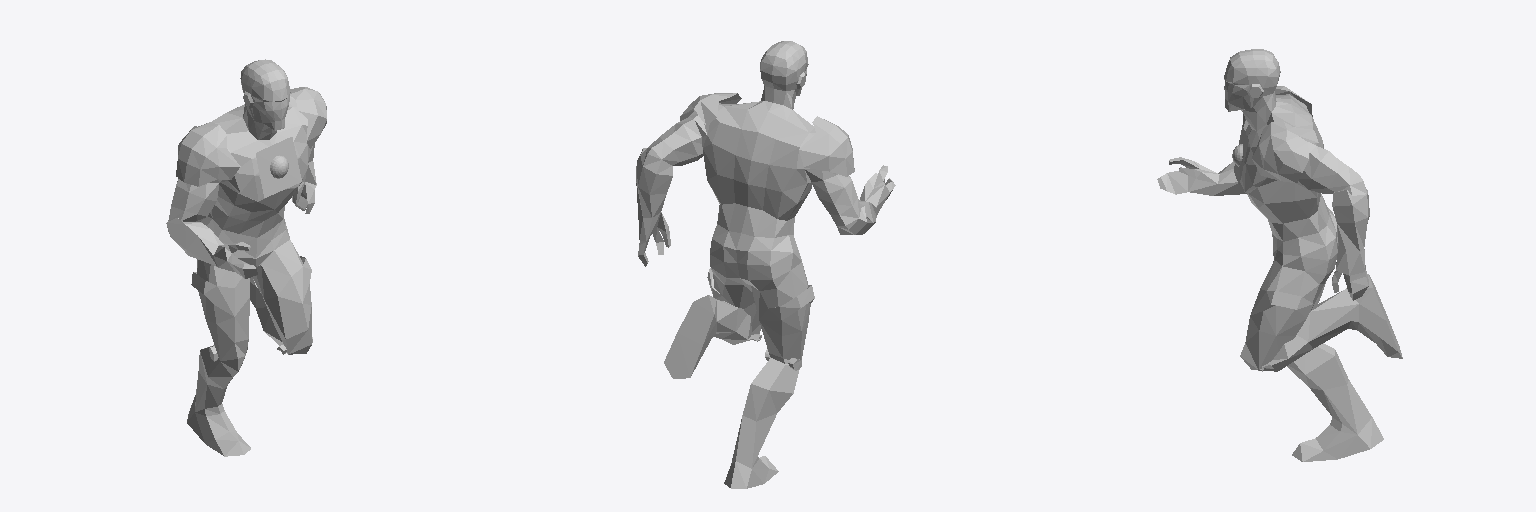
File: running19.obj
3 views of the same model, side by side, from view 1: azimuth 30°, elevation 25°; view 2: azimuth 150°, elevation 25°; view 3: azimuth 270°, elevation 25° (orthographic).
Visible parts, largest first — view 1: M-FF_iOS_HERO_Tony_Stark_Iron_Man_Classic; view 2: M-FF_iOS_HERO_Tony_Stark_Iron_Man_Classic; view 3: M-FF_iOS_HERO_Tony_Stark_Iron_Man_Classic.
Part boxes in pixels (left/top/right/bottom): M-FF_iOS_HERO_Tony_Stark_Iron_Man_Classic: left=166, top=59, right=326, bottom=456; M-FF_iOS_HERO_Tony_Stark_Iron_Man_Classic: left=636, top=41, right=895, bottom=488; M-FF_iOS_HERO_Tony_Stark_Iron_Man_Classic: left=1157, top=49, right=1402, bottom=461.
Size of the model in its own units: 0.9298 by 1.89 by 1.04.